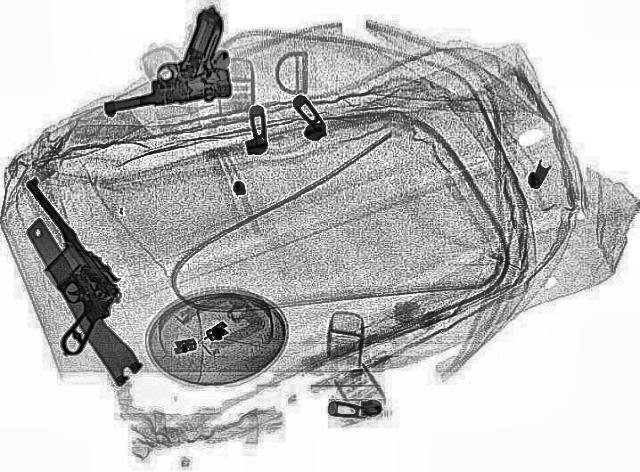Gun: (0, 176, 144, 346), (77, 5, 245, 115)
